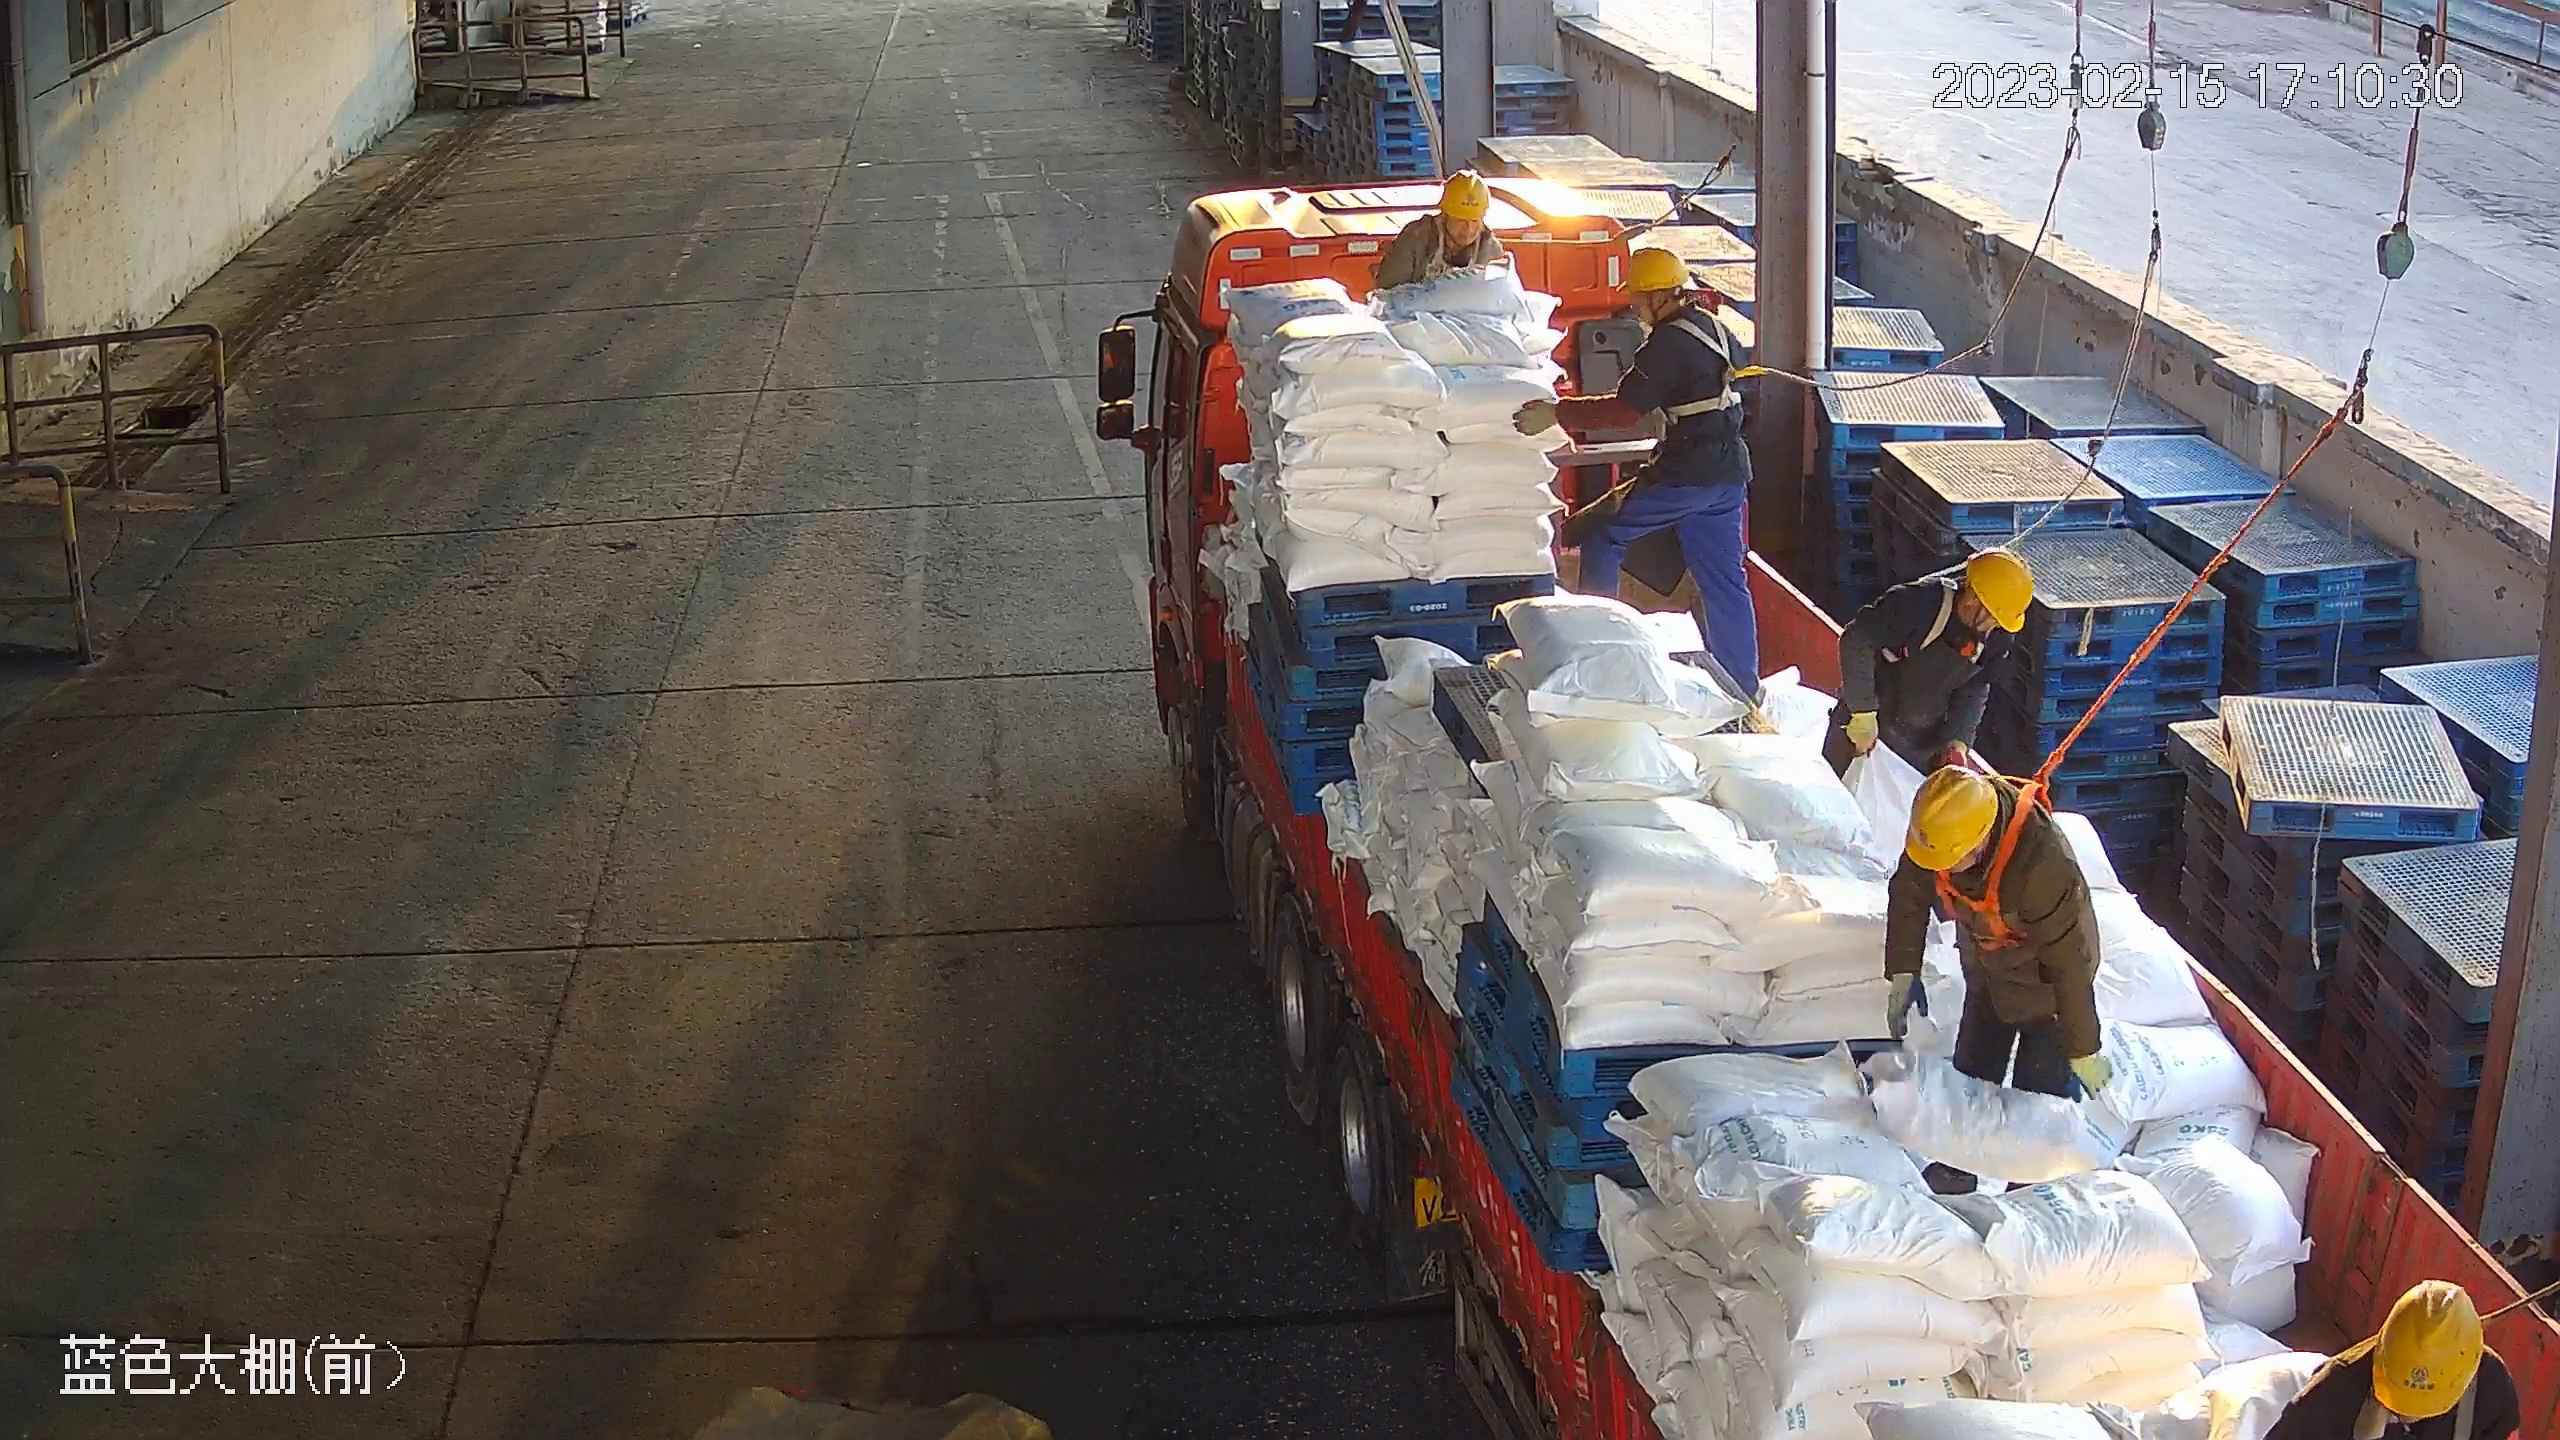belt: (1936, 745, 2066, 949), (1649, 305, 1757, 422), (1885, 574, 1994, 669), (2337, 1386, 2495, 1440), (1418, 228, 1495, 274)
head: (2264, 1266, 2525, 1435), (1905, 771, 2067, 913), (1890, 547, 2030, 698), (1617, 252, 1739, 401), (1391, 167, 1512, 274)
helmet: (2371, 1276, 2479, 1413), (1905, 766, 2003, 871), (1969, 545, 2032, 630), (1625, 250, 1698, 303), (1437, 167, 1495, 225)
people: (1511, 250, 1763, 715), (1880, 766, 2122, 1195), (1822, 541, 2037, 788)
truck: (1084, 164, 2527, 1440)
